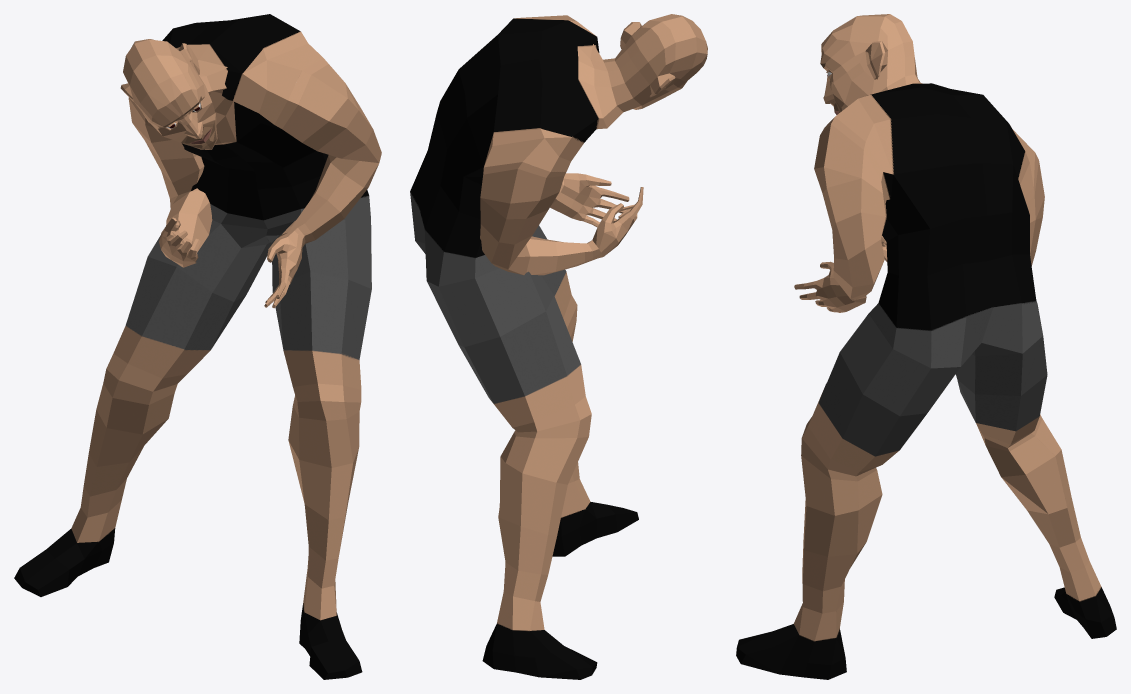
The model's file is PlayerDead(13).obj.
3 renders of one model, left to right at view 1: azimuth 30°, elevation 25°; view 2: azimuth 150°, elevation 25°; view 3: azimuth 270°, elevation 25°, orthographic. The views are drawn at different scales.
Visible parts, largest first — view 1: Plane002; view 2: Plane002; view 3: Plane002.
Part boxes in pixels (x1,y1,x2,y2): Plane002: (14, 14, 381, 679); Plane002: (410, 14, 707, 679); Plane002: (736, 14, 1116, 679).
Bounding box in the file's own units: 653 × 1464 × 851.
